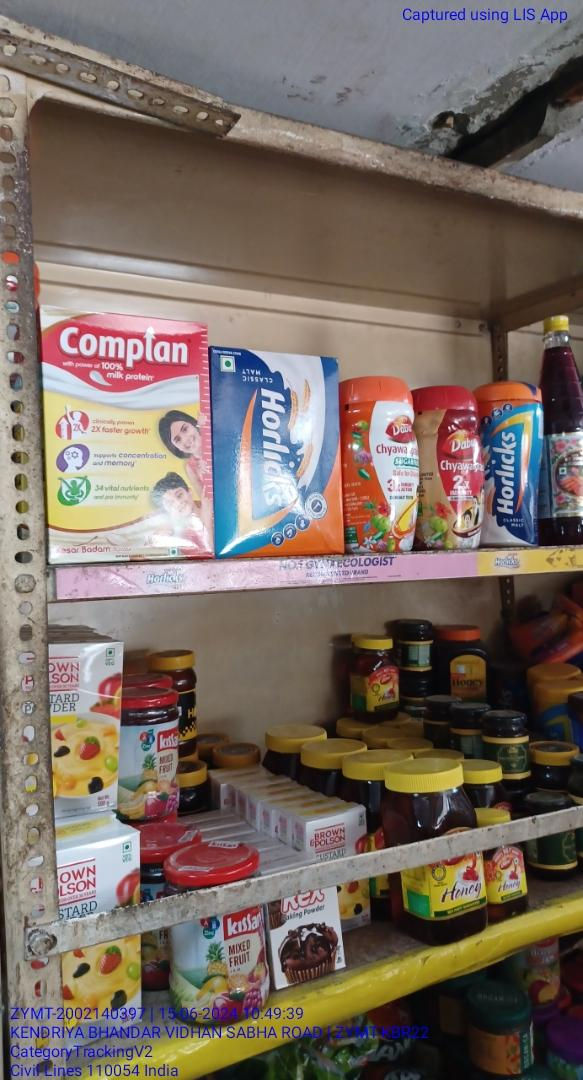COMPLAN_KESAR_BADAM_500_GMS_PACK: (41, 308, 208, 566)
HORLICK_CLASSIC_MALT_500_G_JAR: (482, 378, 538, 548)
HORLICK_CLASSIC_MALT_500_G_PACK: (213, 347, 345, 555)
